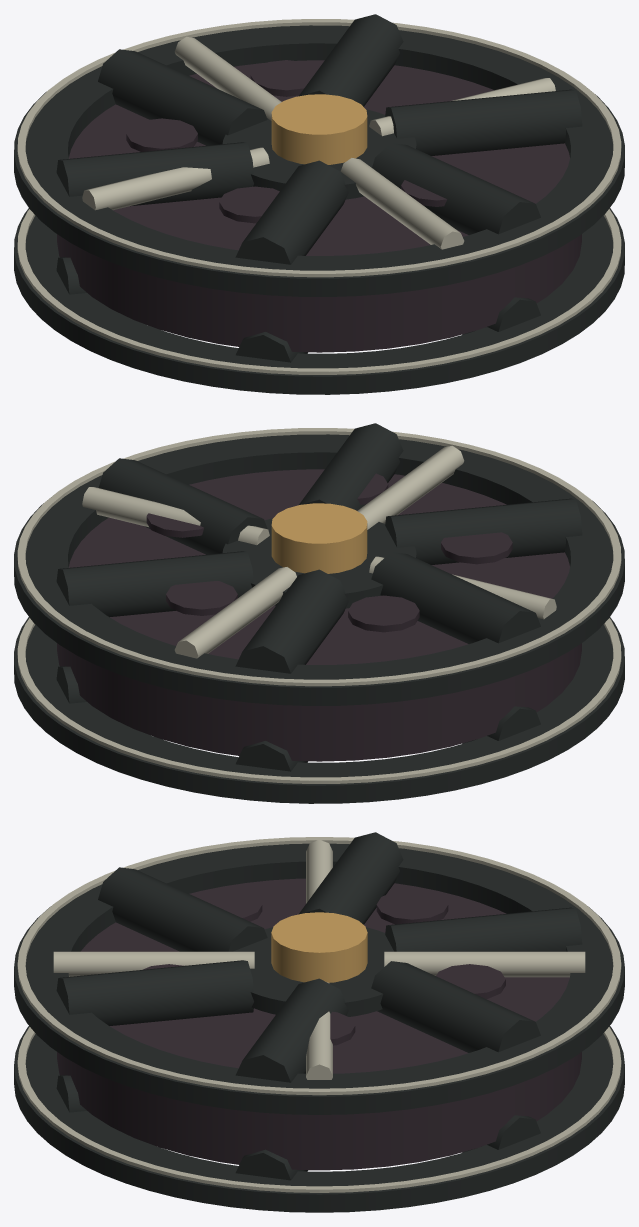
File: Continental.glb
The picture shows the model from 3 angles, top to bottom: view 1: azimuth 30°, elevation 25°; view 2: azimuth 150°, elevation 25°; view 3: azimuth 270°, elevation 25°; orthographic projection.
Parts seen in each view (by area): view 1: Stamped outer rim (×2), Pressed web (×9), Wound silk, Pressed lip (×2), Raised spoke (×4), Spool window (×4), Spindle, Spool hub; view 2: Stamped outer rim (×2), Wound silk, Pressed web (×9), Pressed lip (×2), Raised spoke (×4), Spool window (×4), Spindle, Spool hub; view 3: Stamped outer rim (×2), Pressed web (×9), Wound silk, Pressed lip (×2), Raised spoke (×4), Spindle, Spool window (×4), Spool hub.
Boxes of the visible parts, x1=… form: Stamped outer rim (×2): x1=14, y1=25, x2=624, y2=394; Pressed web (×9): x1=56, y1=14, x2=582, y2=362; Wound silk: x1=57, y1=60, x2=581, y2=352; Pressed lip (×2): x1=17, y1=19, x2=621, y2=374; Raised spoke (×4): x1=82, y1=36, x2=555, y2=249; Spool window (×4): x1=126, y1=60, x2=447, y2=223; Spindle: x1=271, y1=94, x2=367, y2=164; Spool hub: x1=222, y1=109, x2=416, y2=199; Stamped outer rim (×2): x1=14, y1=434, x2=624, y2=803; Wound silk: x1=57, y1=469, x2=581, y2=761; Pressed web (×9): x1=56, y1=423, x2=582, y2=771; Pressed lip (×2): x1=17, y1=428, x2=621, y2=783; Raised spoke (×4): x1=82, y1=445, x2=556, y2=658; Spool window (×4): x1=146, y1=513, x2=512, y2=632; Spindle: x1=271, y1=503, x2=367, y2=573; Spool hub: x1=222, y1=518, x2=416, y2=608; Stamped outer rim (×2): x1=14, y1=843, x2=624, y2=1212; Pressed web (×9): x1=56, y1=832, x2=582, y2=1180; Wound silk: x1=57, y1=878, x2=581, y2=1170; Pressed lip (×2): x1=17, y1=837, x2=621, y2=1192; Raised spoke (×4): x1=53, y1=839, x2=585, y2=1079; Spindle: x1=271, y1=912, x2=367, y2=982; Spool window (×4): x1=196, y1=889, x2=505, y2=1045; Spool hub: x1=233, y1=927, x2=393, y2=1016.
Size of the model in its own units: 0.85 by 0.253 by 0.85.
